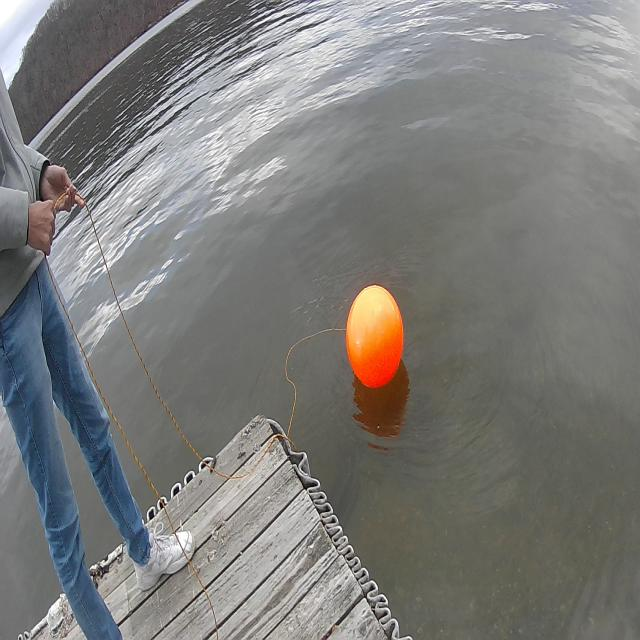Buoy: (342, 281, 406, 402)
